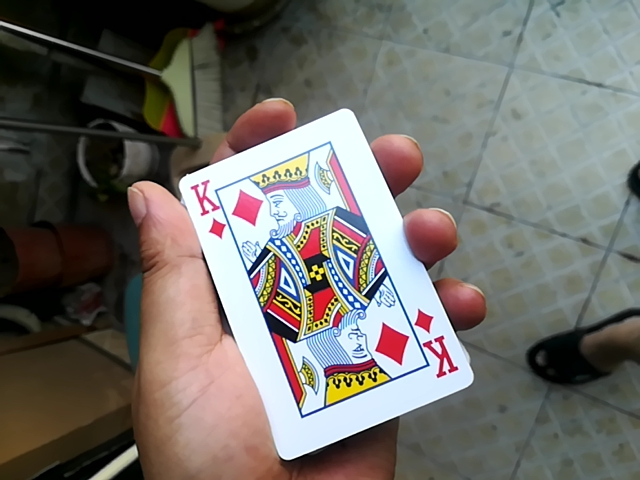fk k: (158, 105, 449, 463)
